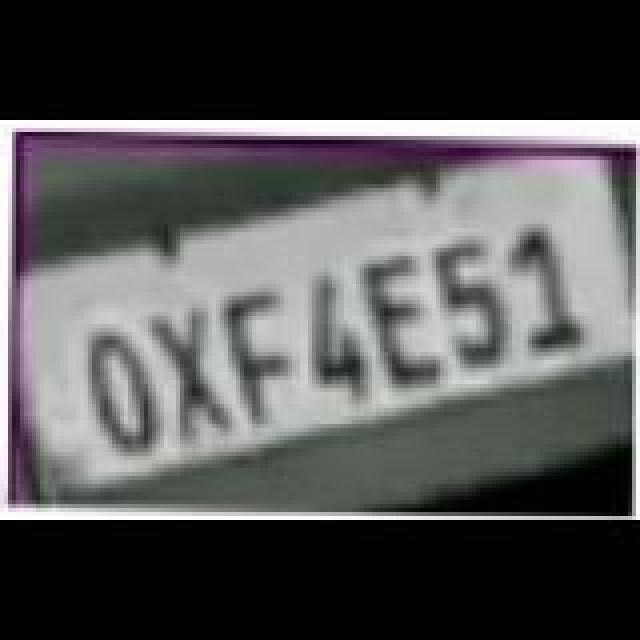1: (508, 226, 588, 358)
4: (308, 276, 372, 404)
5: (434, 238, 510, 370)
E: (366, 252, 450, 388)
F: (220, 292, 300, 428)
O: (86, 334, 162, 458)
X: (148, 308, 236, 444)
